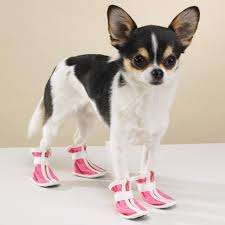chihuahua: (24, 3, 208, 225)
